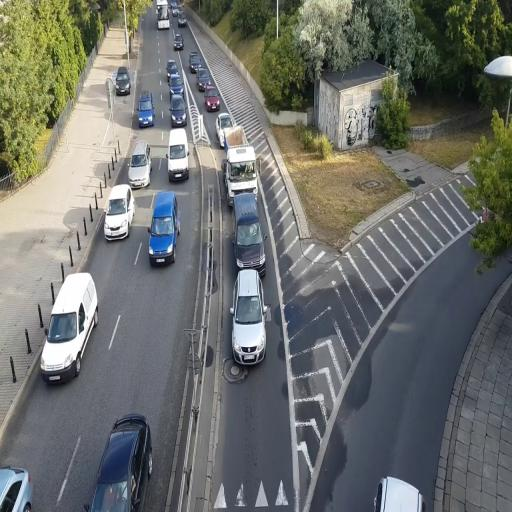vehicle: (40, 272, 98, 386), (87, 414, 153, 510), (226, 145, 267, 275), (230, 269, 268, 366), (231, 186, 266, 274), (149, 190, 178, 268), (225, 146, 258, 205), (104, 186, 134, 242), (0, 465, 33, 511), (167, 129, 189, 183), (127, 145, 151, 188), (136, 91, 154, 128), (216, 111, 234, 148), (166, 59, 182, 93), (113, 67, 131, 96), (170, 96, 187, 126), (206, 91, 220, 113), (197, 70, 210, 91), (189, 52, 201, 72), (175, 34, 184, 52)
